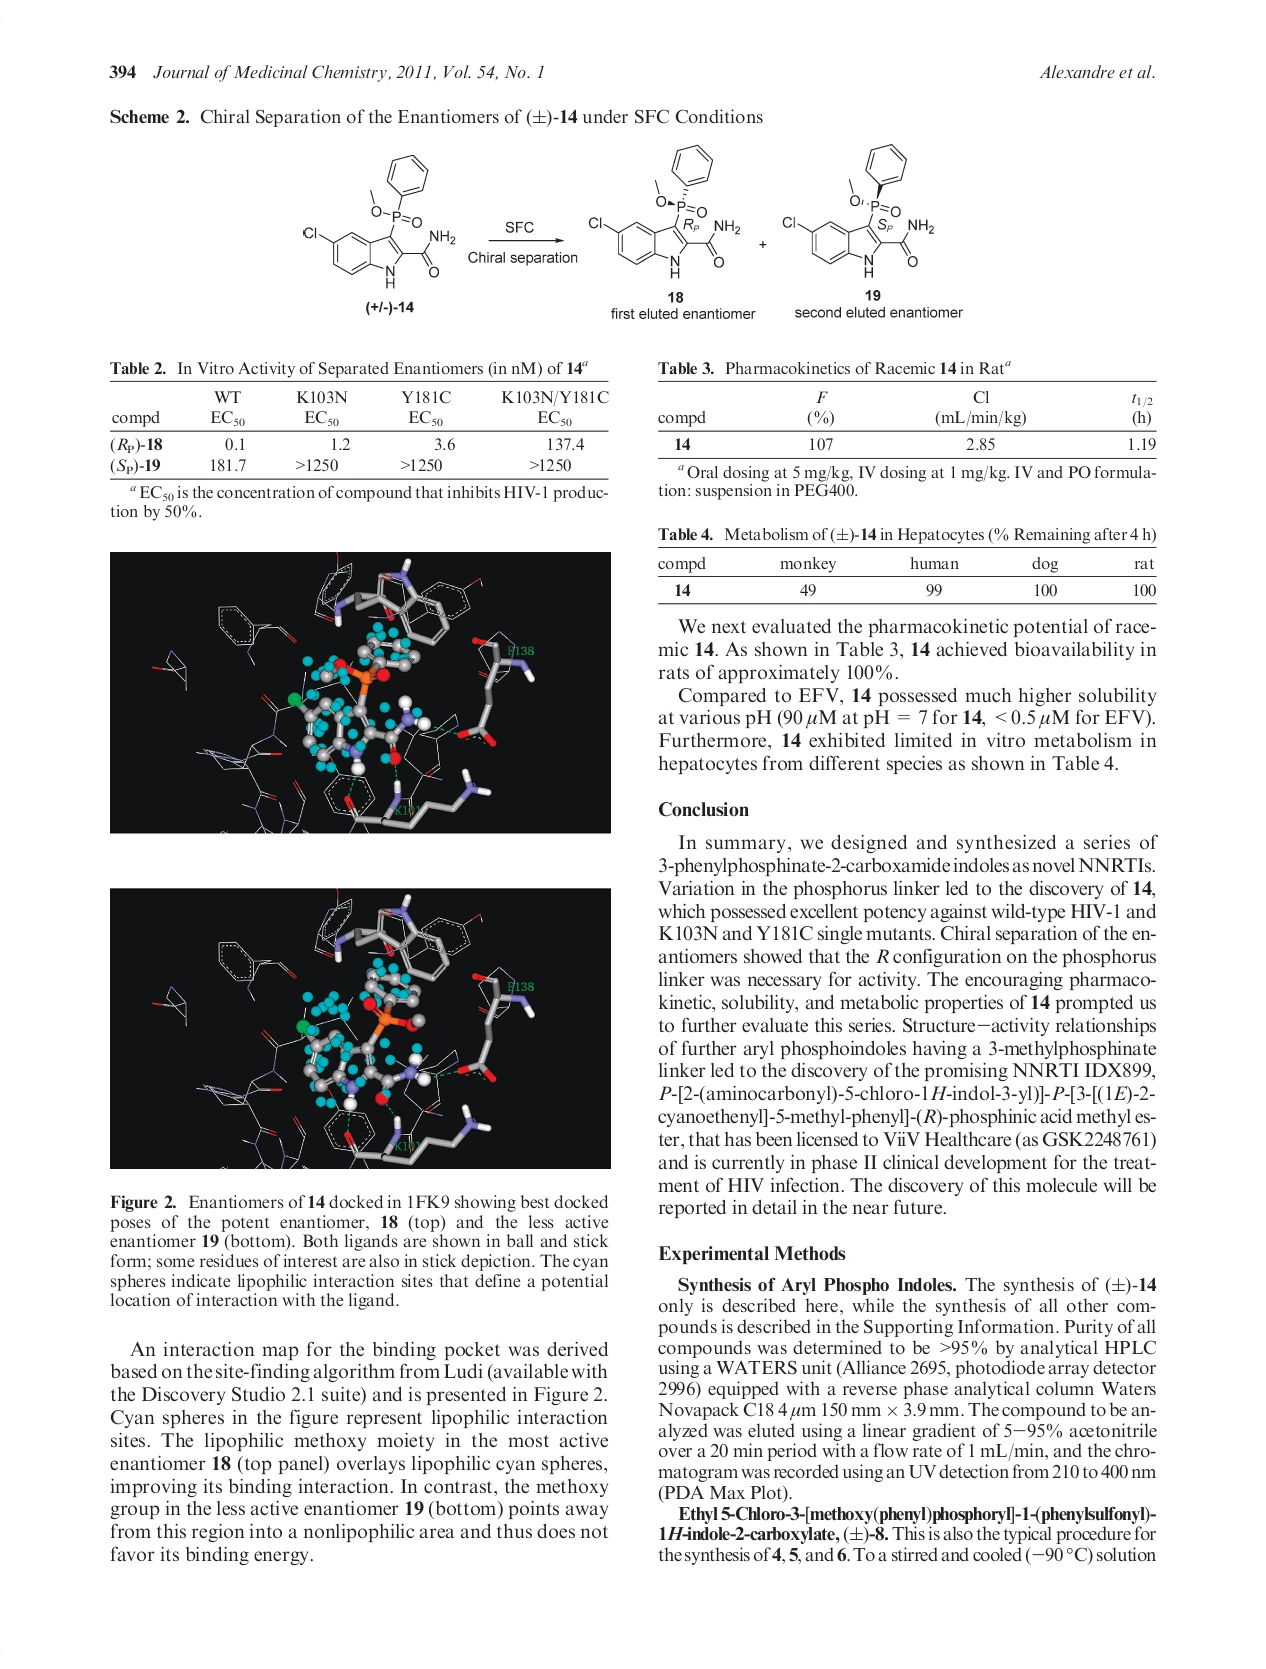exist_molecular: (584, 138, 750, 282), (777, 140, 936, 281), (299, 149, 457, 290)
